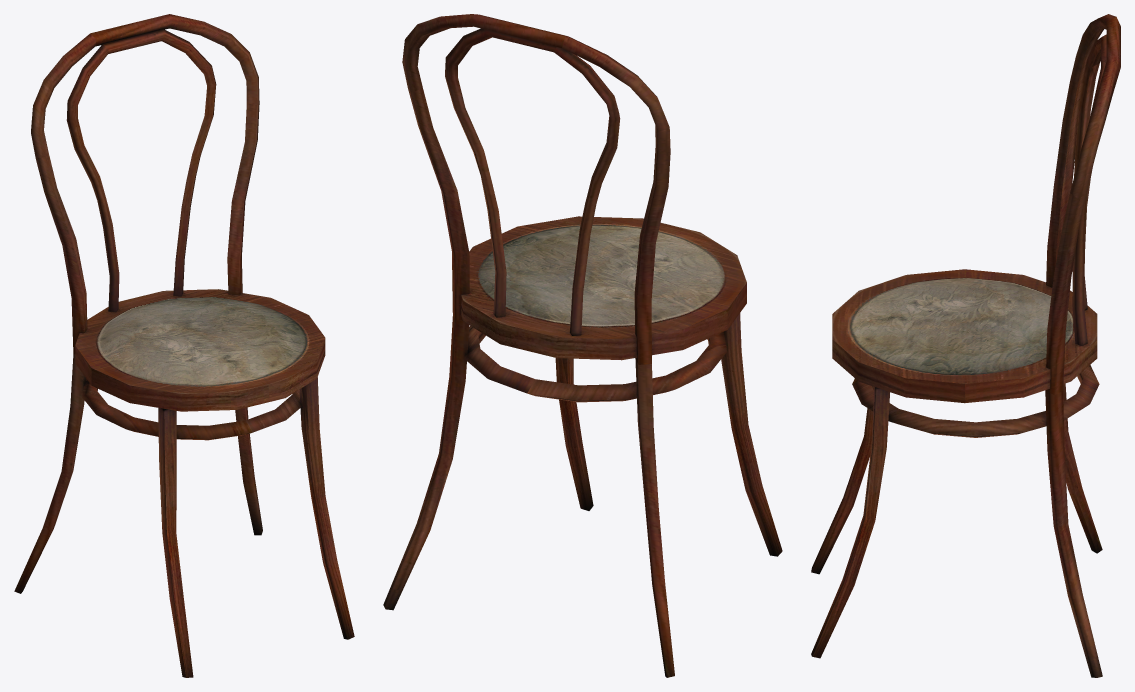
File: chair.obj
3 renders of one model, left to right at view 1: azimuth 30°, elevation 25°; view 2: azimuth 150°, elevation 25°; view 3: azimuth 270°, elevation 25°, orthographic. The views are drawn at different scales.
Parts seen in each view (by area): view 1: Model001_4_Material6334_1.0_0.0_0.0; view 2: Model001_4_Material6334_1.0_0.0_0.0; view 3: Model001_4_Material6334_1.0_0.0_0.0.
Part boxes in pixels (left/top/right/bottom): Model001_4_Material6334_1.0_0.0_0.0: left=14, top=14, right=354, bottom=677; Model001_4_Material6334_1.0_0.0_0.0: left=383, top=14, right=782, bottom=677; Model001_4_Material6334_1.0_0.0_0.0: left=811, top=14, right=1120, bottom=677.
Size of the model in its own units: 0.5226 by 1.07 by 0.5208.
